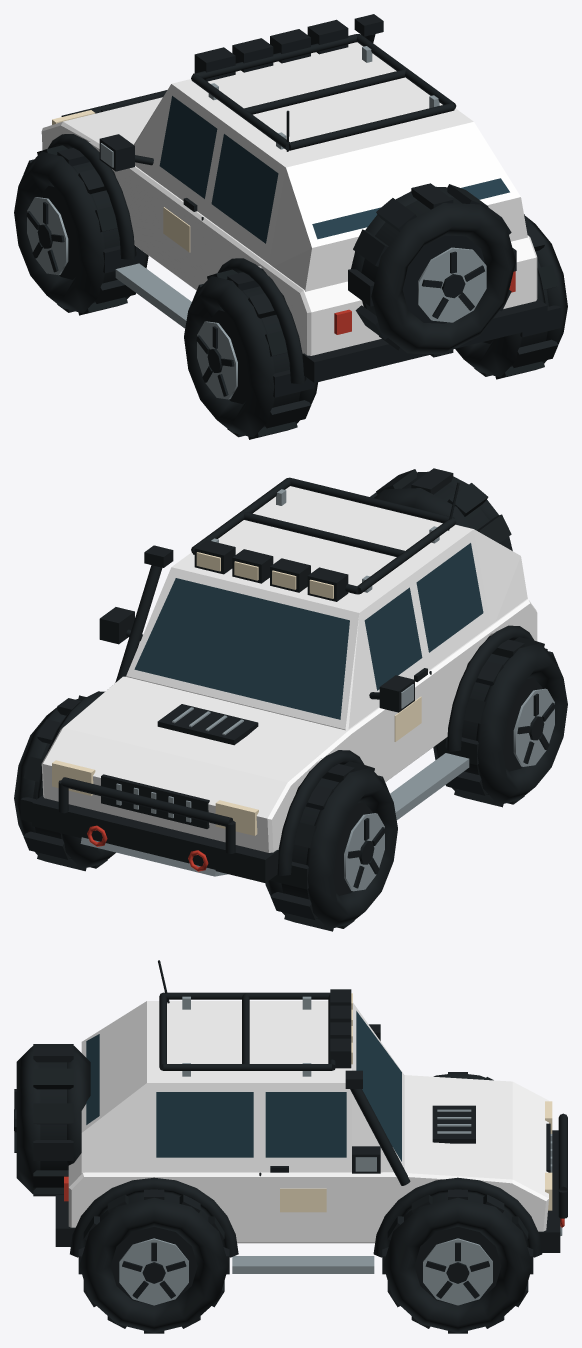
Rendered from trail-r4.glb.
3 views of the same model, one above another, from view 1: azimuth 30°, elevation 25°; view 2: azimuth 150°, elevation 25°; view 3: azimuth 270°, elevation 25° (orthographic). The views are drawn at different scales.
Visible parts, largest first — view 1: rubber, team_paint, glass, alloy, ivory; view 2: rubber, team_paint, glass, alloy, ivory; view 3: team_paint, rubber, glass, alloy, ivory.
Part boxes in pixels (bbox=[...]): rubber: bbox=[14, 14, 567, 439]; team_paint: bbox=[41, 42, 537, 355]; glass: bbox=[159, 96, 509, 243]; alloy: bbox=[27, 46, 486, 399]; ivory: bbox=[52, 110, 190, 252]; rubber: bbox=[14, 468, 567, 931]; team_paint: bbox=[41, 486, 537, 852]; glass: bbox=[134, 543, 483, 719]; alloy: bbox=[80, 489, 554, 891]; ivory: bbox=[52, 552, 421, 835]; team_paint: bbox=[68, 1001, 548, 1243]; rubber: bbox=[14, 960, 567, 1333]; glass: bbox=[86, 1011, 401, 1161]; alloy: bbox=[119, 996, 562, 1305]; ivory: bbox=[280, 993, 552, 1212].
Size of the model in its own units: 9.3 by 8.4 by 15.41.
